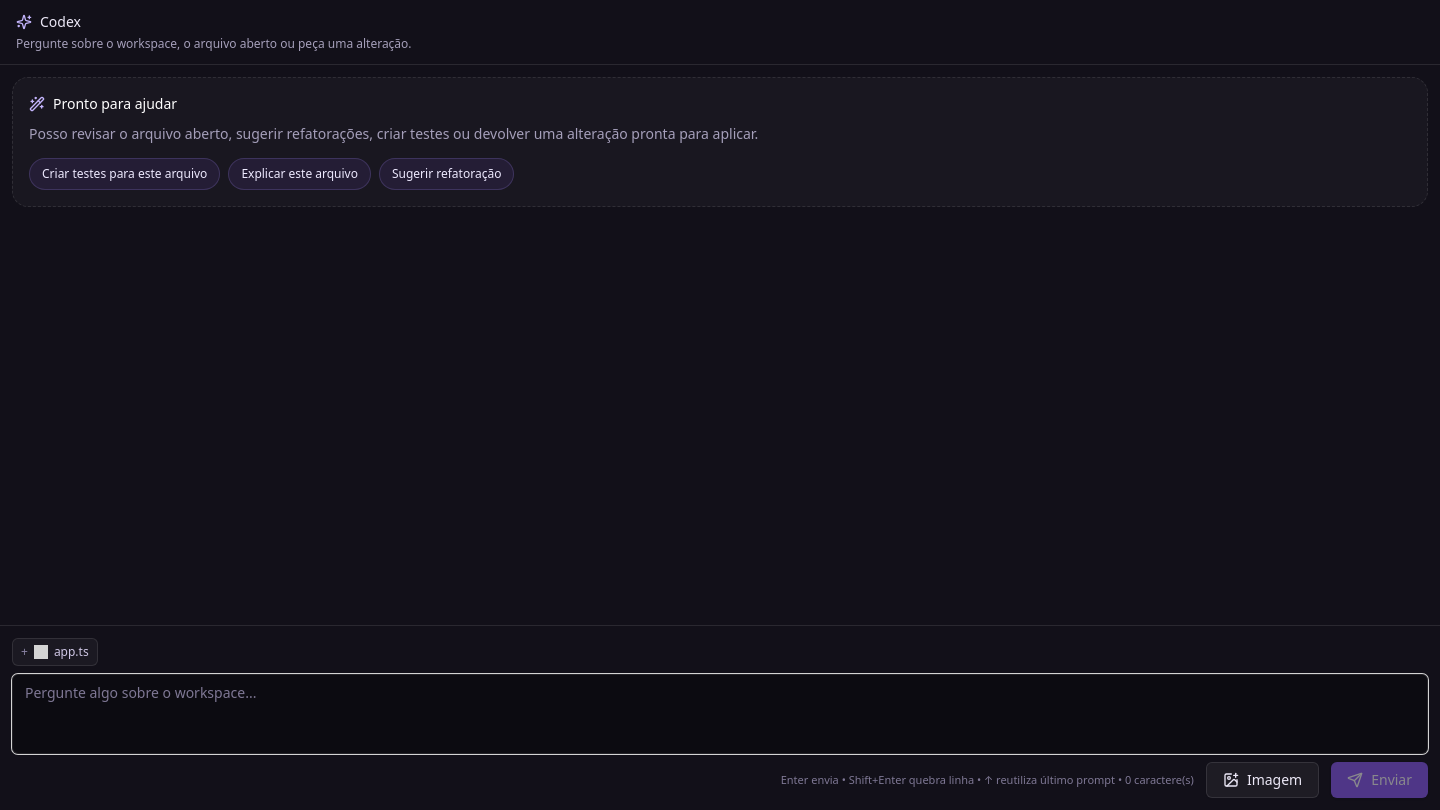
<AssistantPanel /> › mostra uma mensagem amigavel quando o backend devolve timeout
This screenshot has width=1440, height=810.
Type "faça uma alteração" into the text box with placeholder "Pergunte algo sobre o workspace..." at point(720, 714), box [12,674,1428,754]
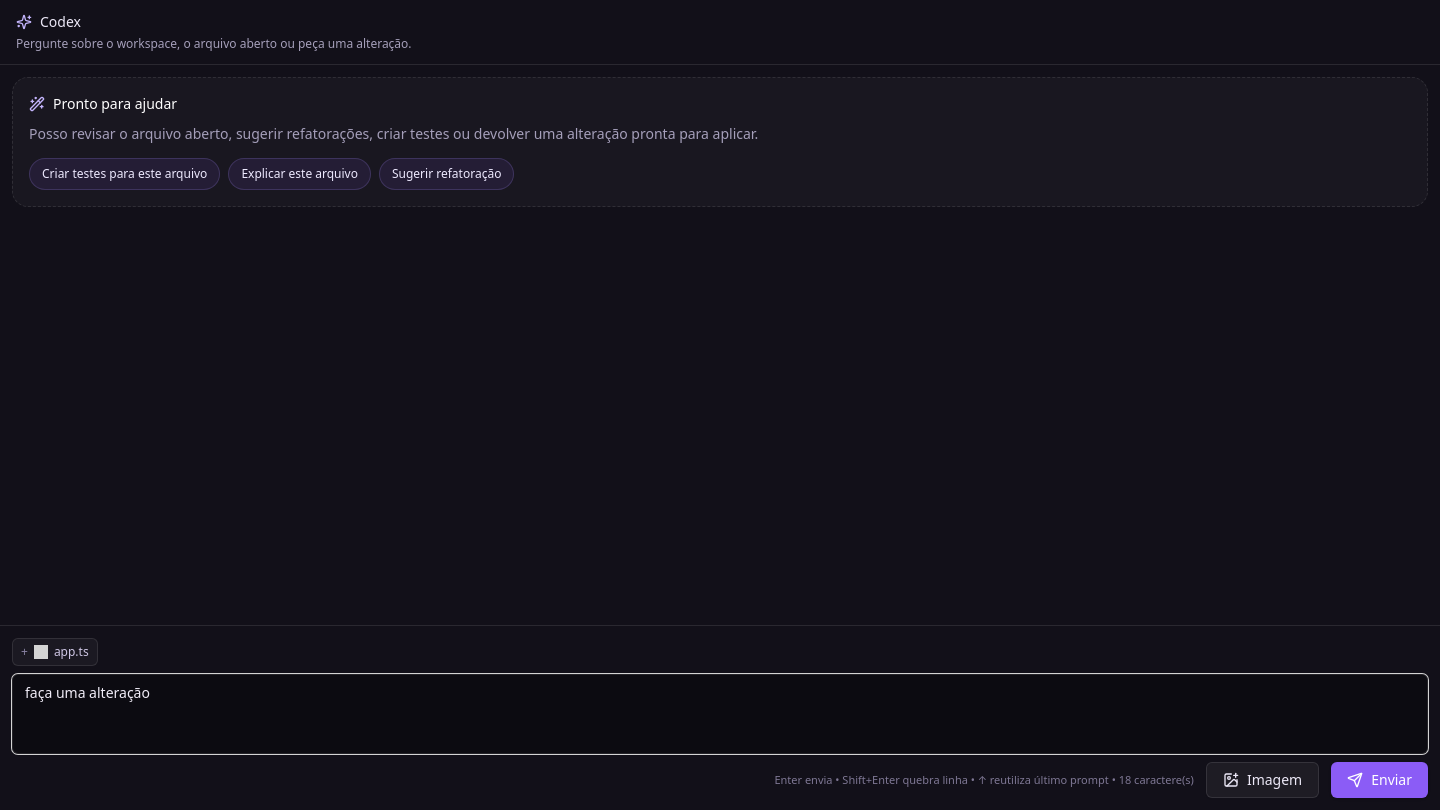
Click the button "Enviar" at point(1380, 780), box [1331,762,1428,798]
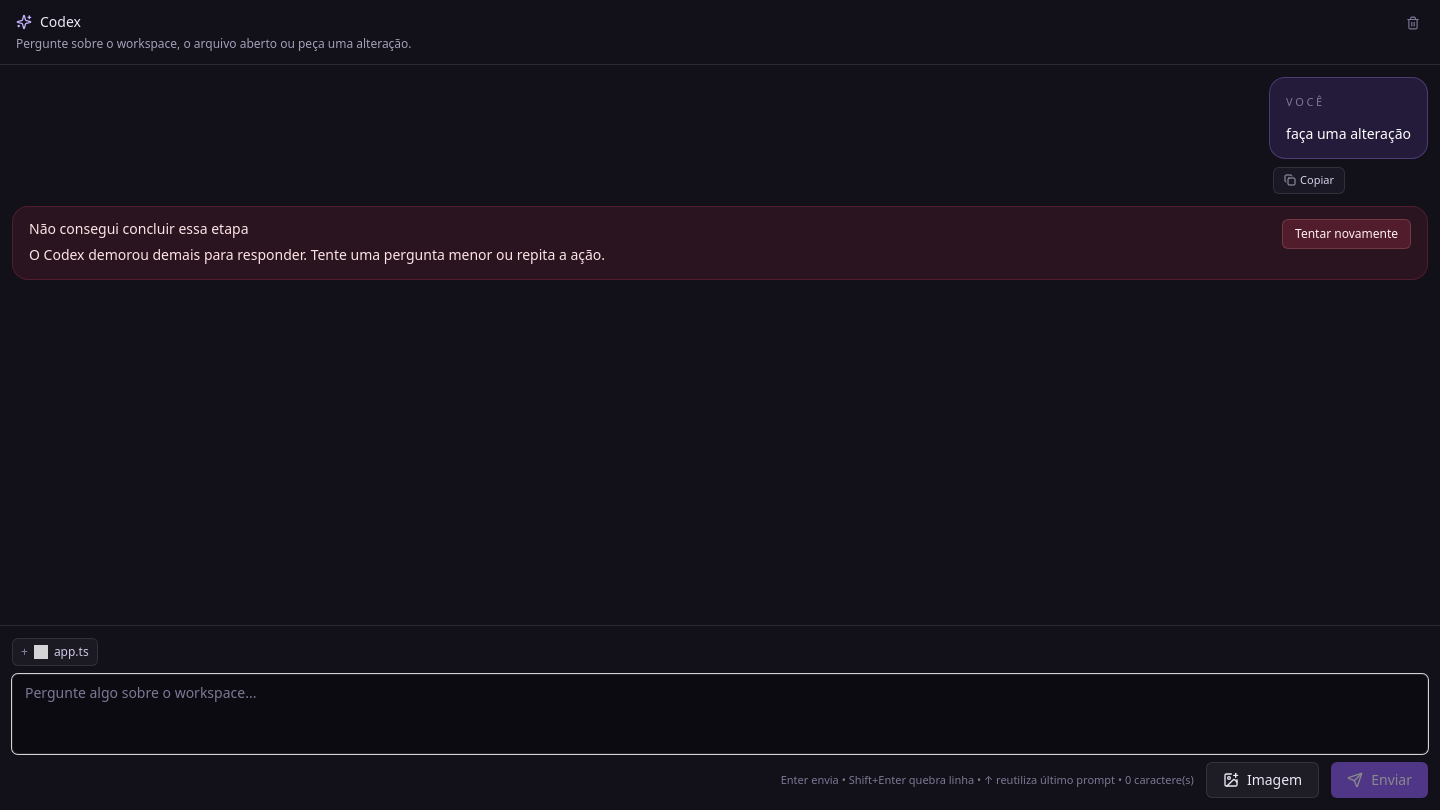
Expected: the text "O Codex demorou demais para responder. Tente uma pergunta menor ou repita a ação." is shown, [29,244,605,264]
